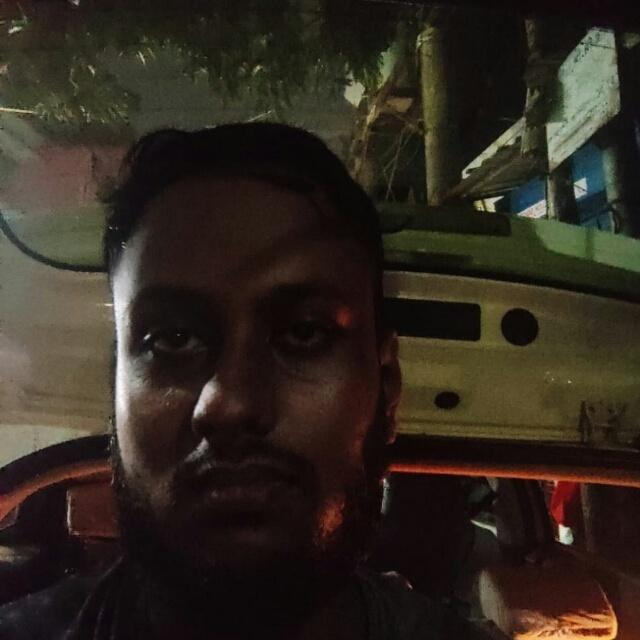Sad: (69, 110, 419, 619)
